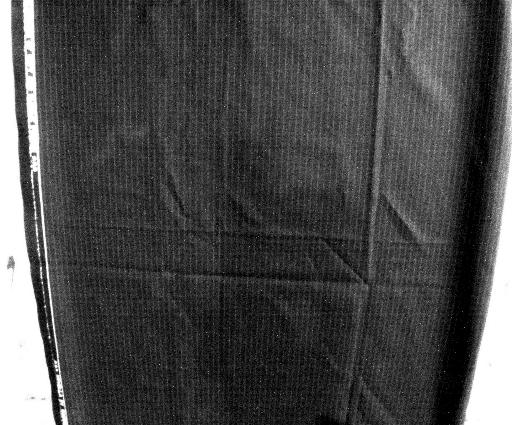fabric_perfect: (6, 0, 511, 425)
